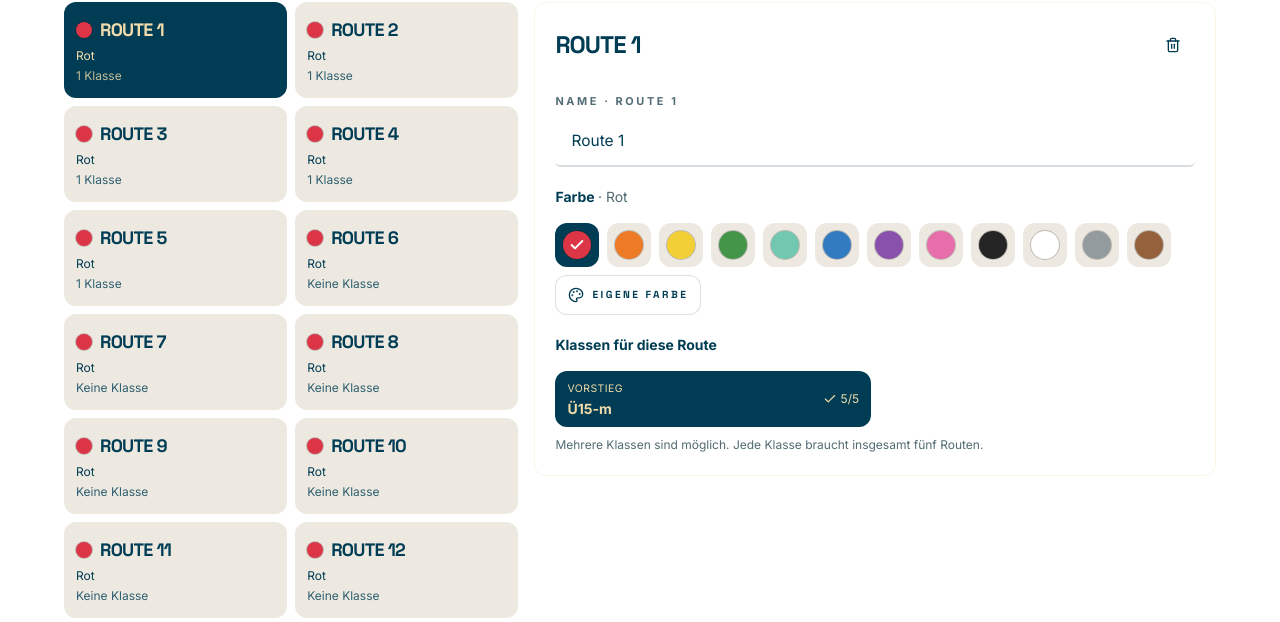
Scenario: competition admin › does not allow opening when configuration has unsaved edits
Replace the text in the field labelled "Name · Route 1" with "Neuer Name" at (875, 141), box [571,129,1179,153]
(page scrolled)
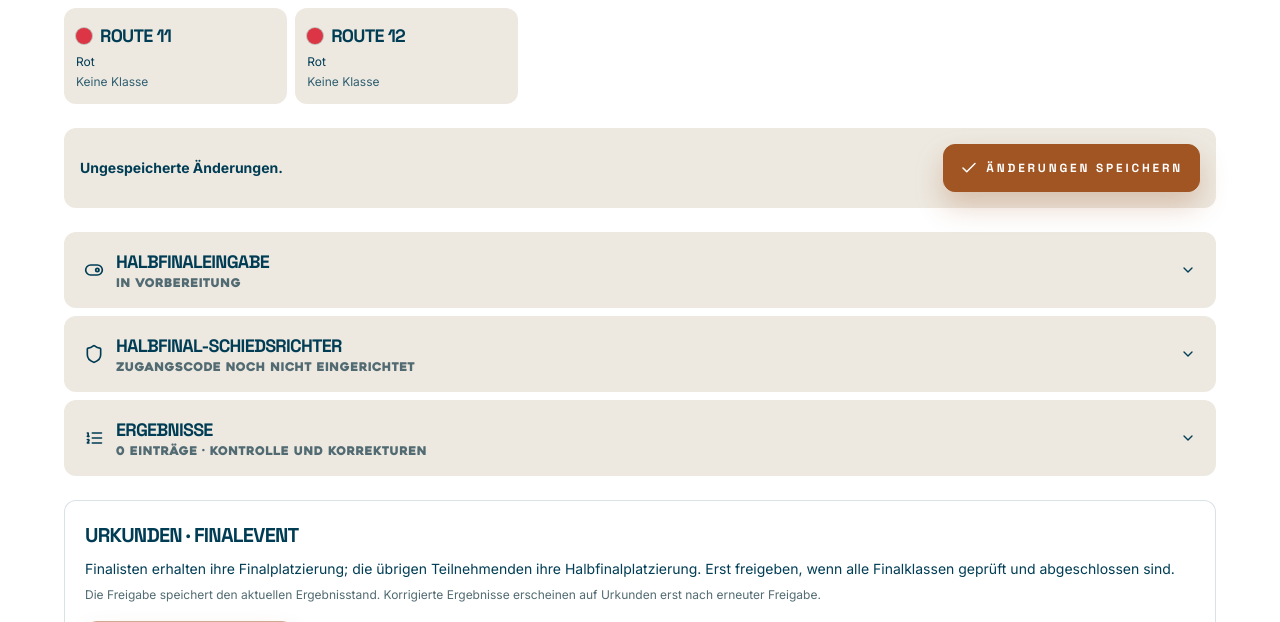
Click the button "Halbfinaleingabe In Vorbereitung".
click(193, 262)  # box [64,232,1216,308]
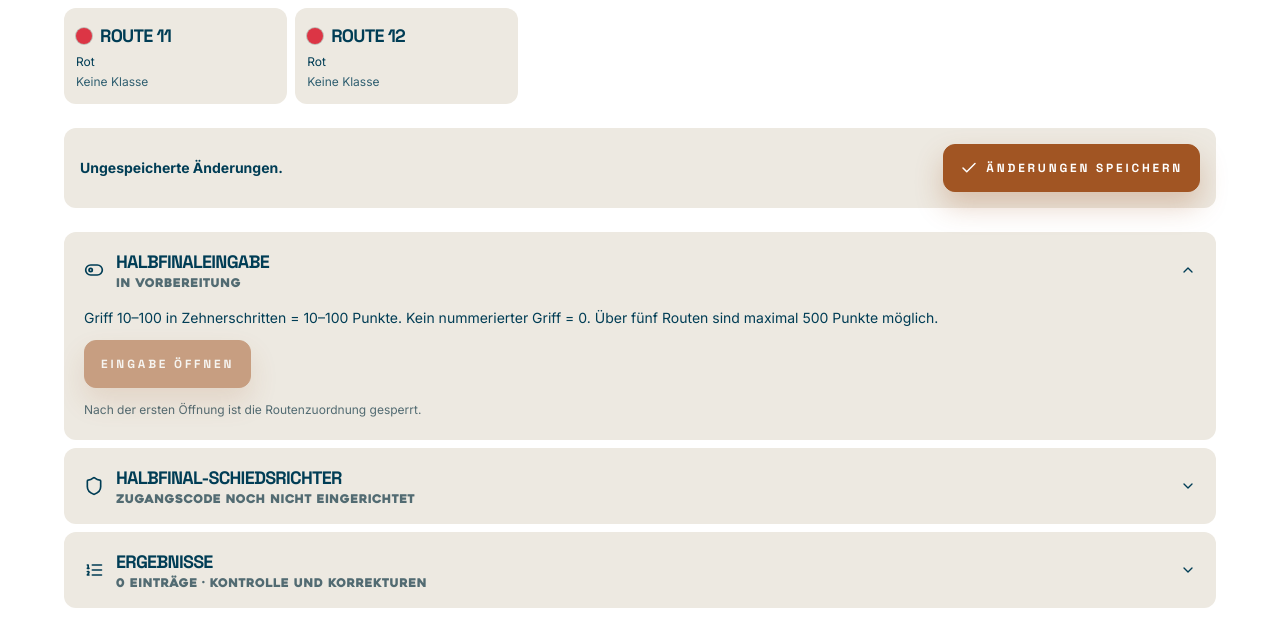
Expected: the button "Änderungen speichern" is enabled, [943,144,1200,192]
Expected: the button "Eingabe öffnen" is disabled, [84,340,251,388]
